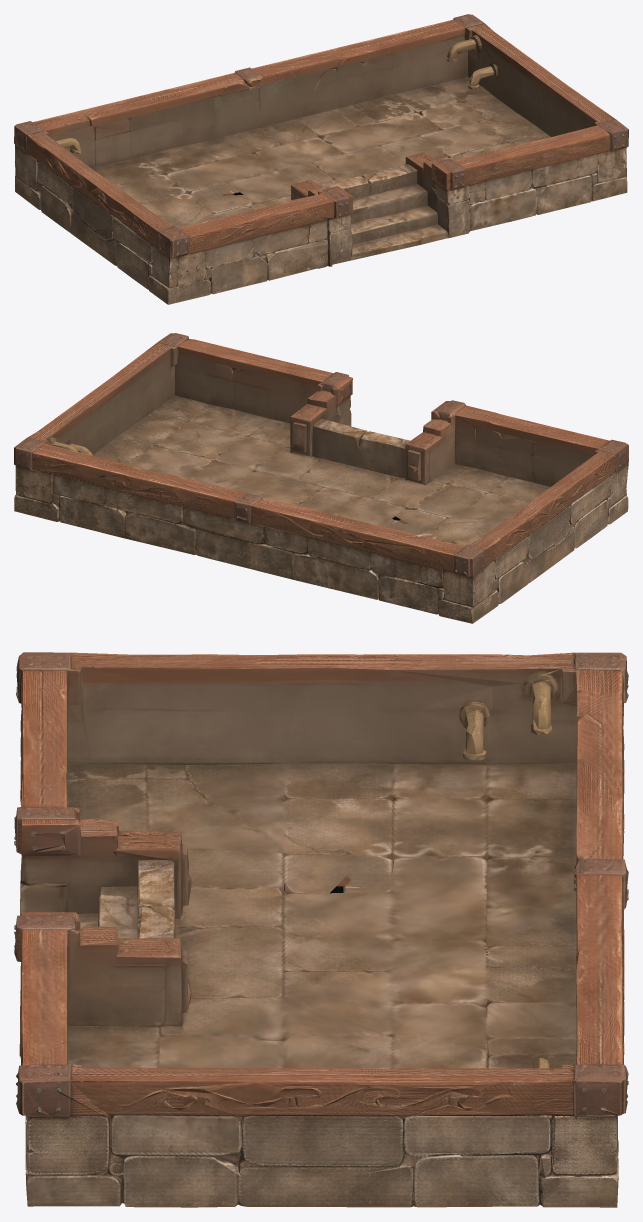
Rendered from large-tub.glb.
3 renders of one model, top to bottom at view 1: azimuth 30°, elevation 25°; view 2: azimuth 150°, elevation 25°; view 3: azimuth 270°, elevation 25°, orthographic. The views are drawn at different scales.
Visible parts, largest first — view 1: output_unwrapped; view 2: output_unwrapped; view 3: output_unwrapped.
Part boxes in pixels (left/top/right/bottom): output_unwrapped: left=14, top=14, right=628, bottom=304; output_unwrapped: left=14, top=333, right=628, bottom=623; output_unwrapped: left=14, top=652, right=628, bottom=1207.
Bounding box in the file's own units: 1.9 × 0.265 × 1.15.
Materials: 1 (1 with a texture image).
